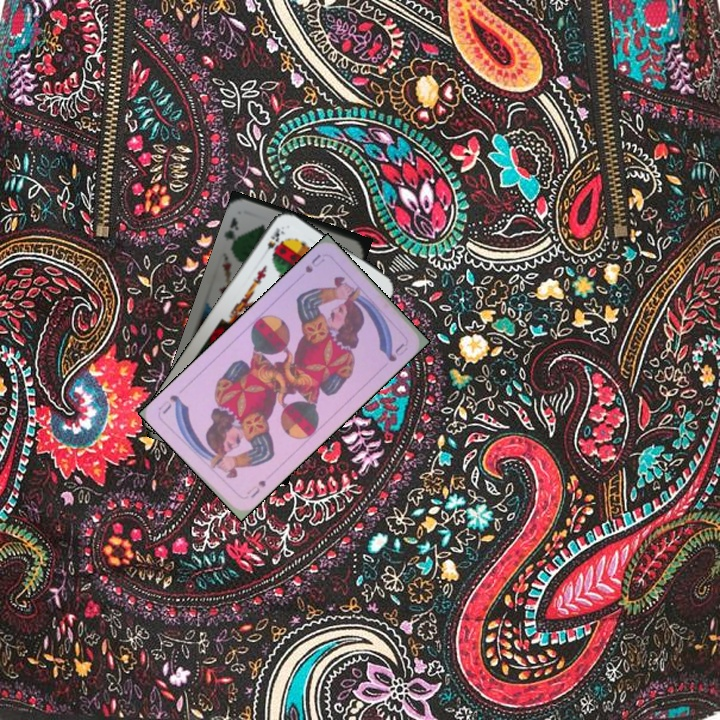GK: (220, 213, 241, 244)
SK: (258, 224, 288, 258)
SU: (301, 250, 327, 276), (242, 476, 268, 501)
